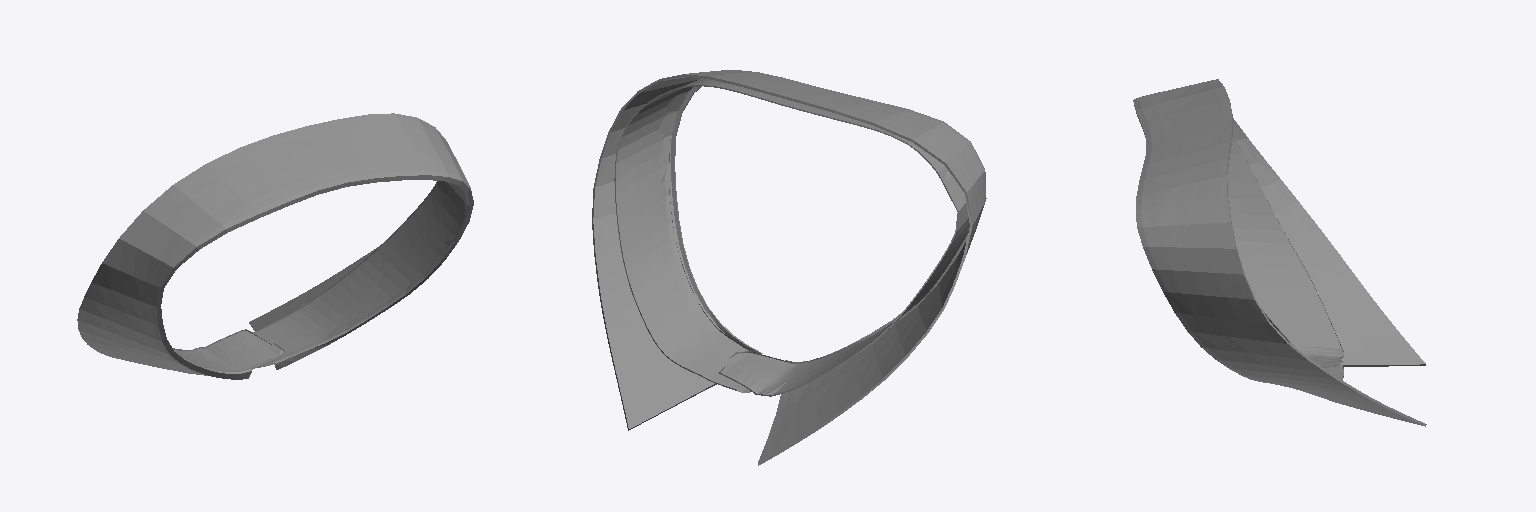
File: narrow.obj
3 views of the same model, side by side, from view 1: azimuth 30°, elevation 25°; view 2: azimuth 150°, elevation 25°; view 3: azimuth 270°, elevation 25° (orthographic).
Parts seen in each view (by area): view 1: 5_narrow, inner_collar_out; view 2: 5_narrow, inner_collar_out; view 3: 5_narrow, inner_collar_out.
Part boxes in pixels (left/top/right/bottom): 5_narrow: left=77, top=113, right=473, bottom=379; inner_collar_out: left=173, top=181, right=465, bottom=371; 5_narrow: left=592, top=70, right=986, bottom=465; inner_collar_out: left=614, top=78, right=969, bottom=396; 5_narrow: left=1133, top=79, right=1426, bottom=426; inner_collar_out: left=1227, top=131, right=1343, bottom=380.
Bounding box in the file's own units: 17.67 × 13.16 × 12.41.